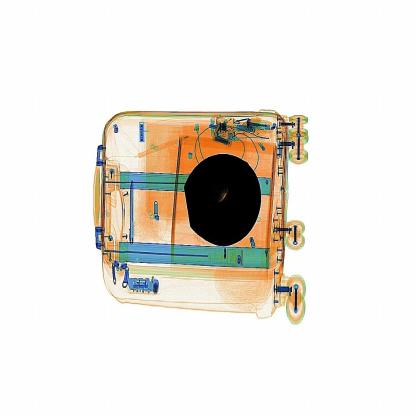pliers: (125, 175, 144, 251)
